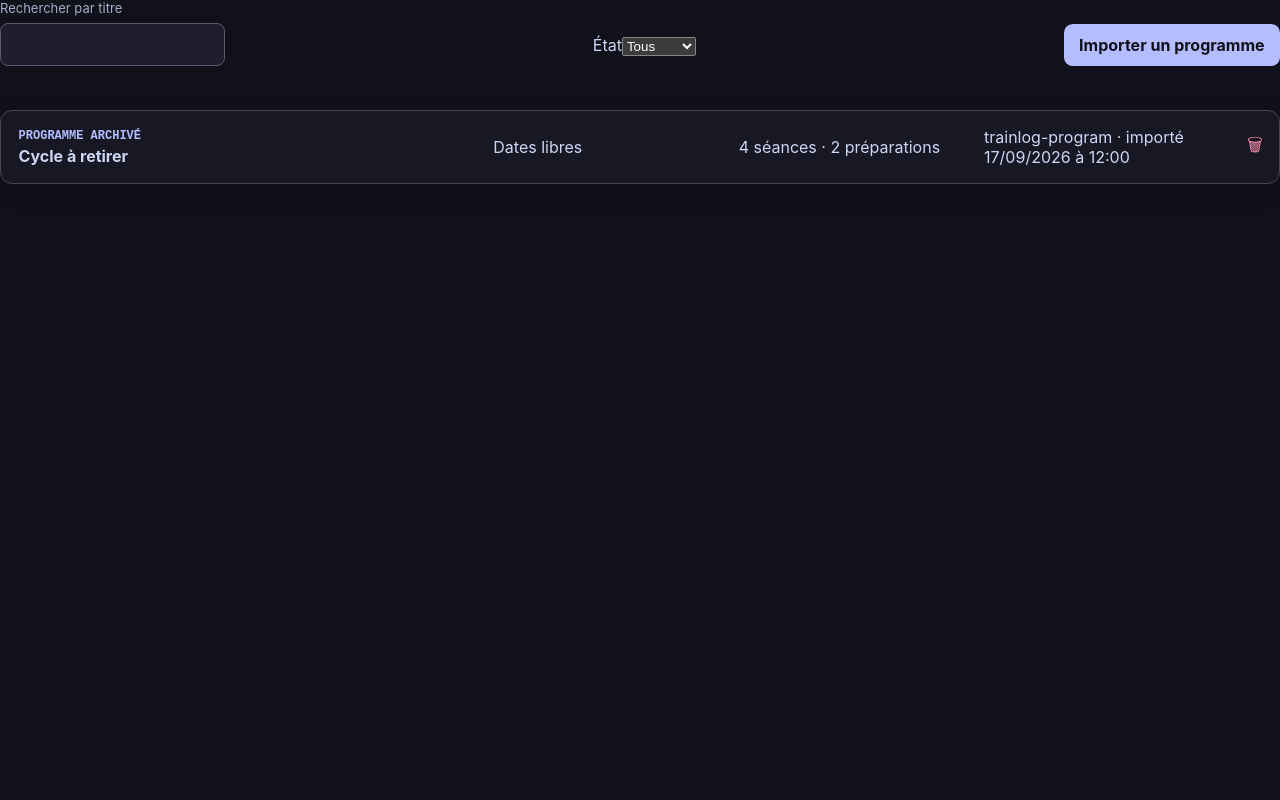
Test case: Programs tab › deletes a program through a separate guarded action and restores focus on cancel
The width and height of the screenshot is (1280, 800).
Click the button named "Supprimer le programme Cycle à retirer" at [1255, 147], box top-left (1231, 111), bottom-right (1279, 183)
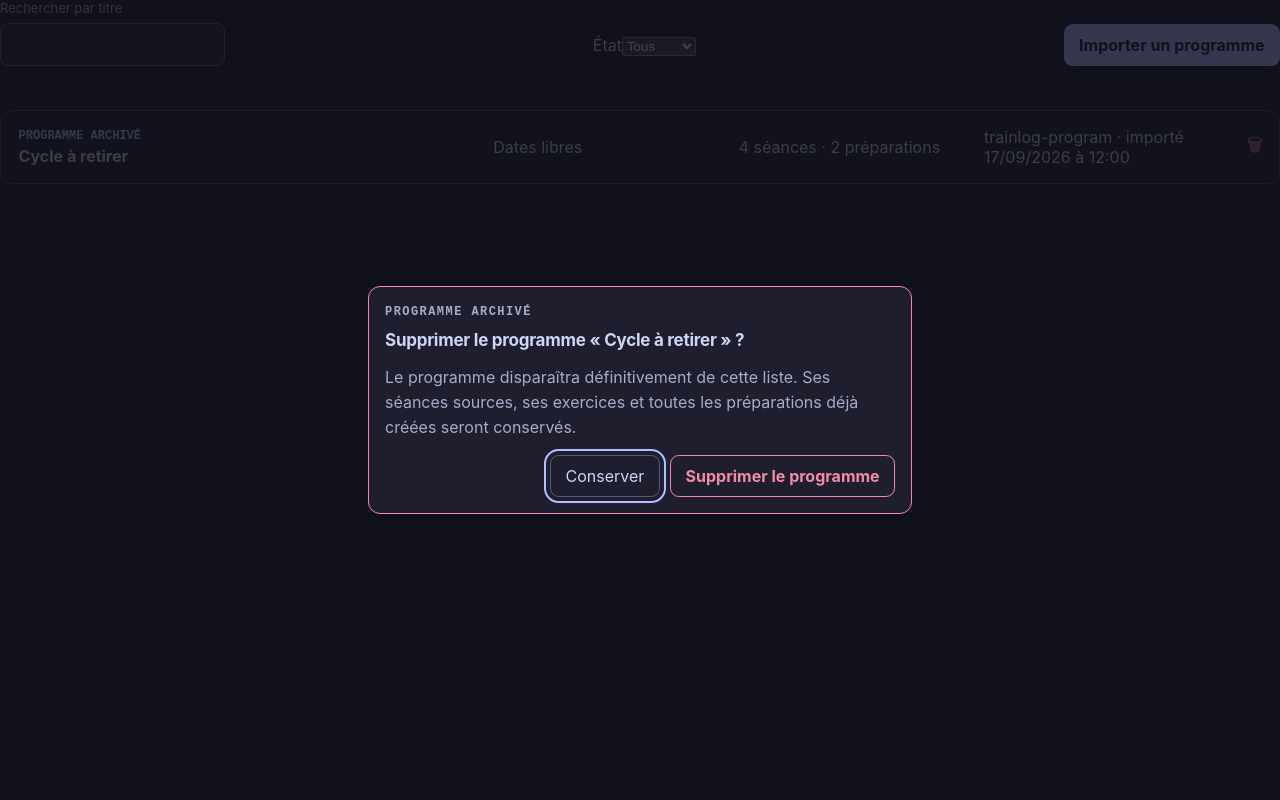
Press Escape in the dialog, box top-left (368, 286), bottom-right (912, 514)
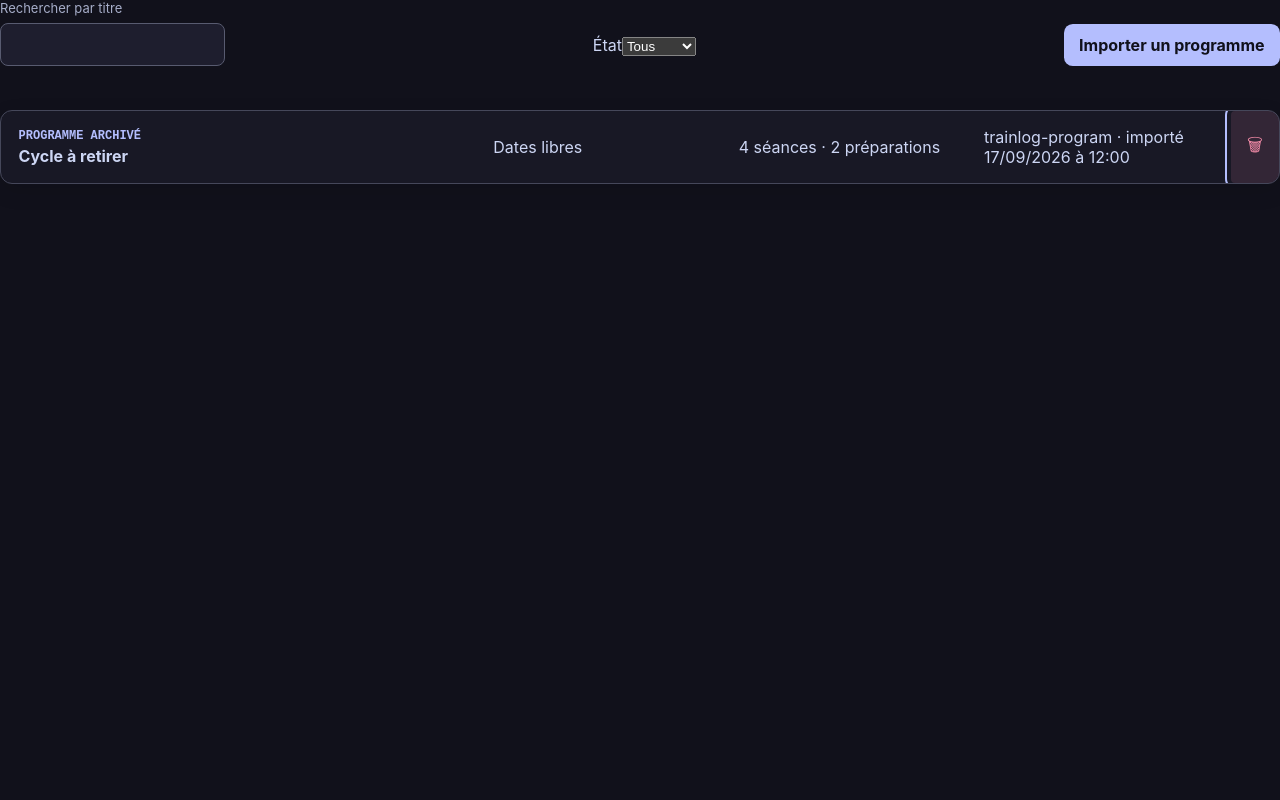
Expected: the dialog is gone
Click the button named "Supprimer le programme Cycle à retirer" at [1255, 147], box top-left (1231, 111), bottom-right (1279, 183)
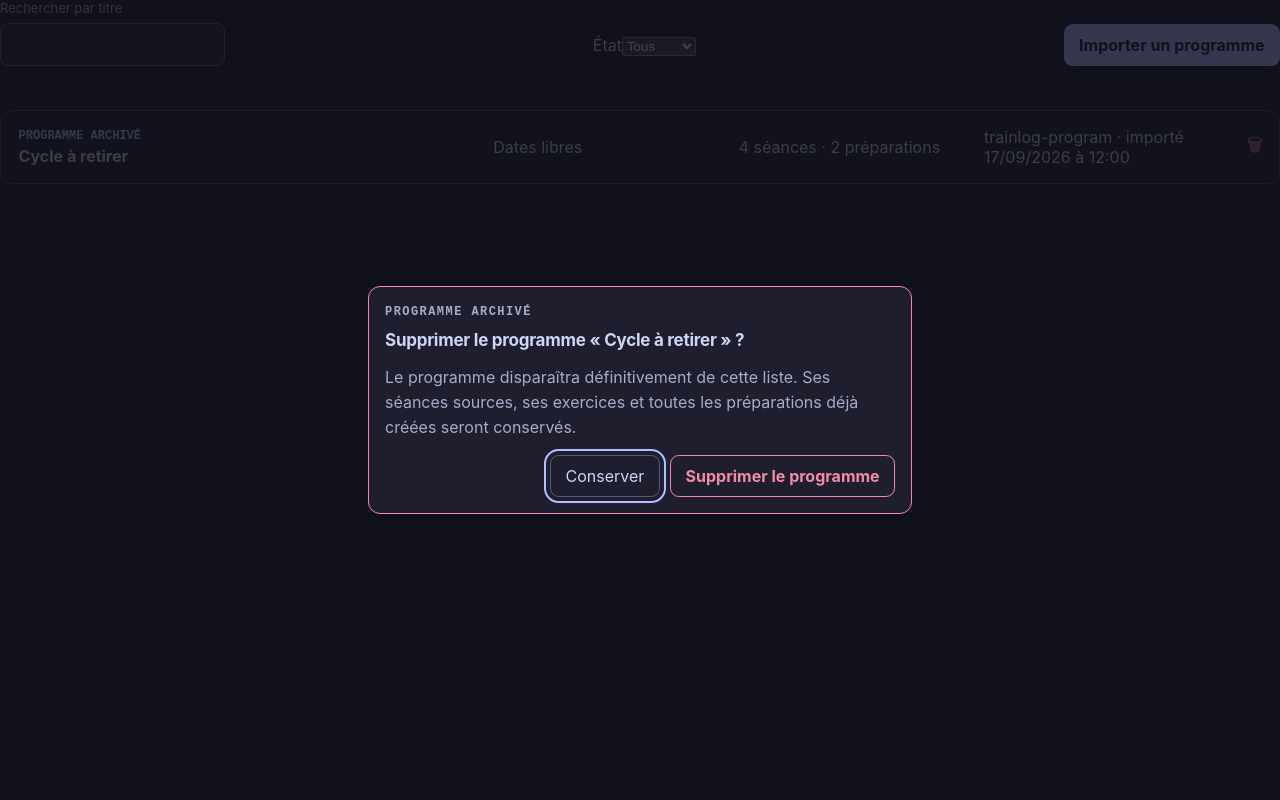
Click the button "Supprimer le programme" at [783, 476], box top-left (670, 455), bottom-right (895, 497)
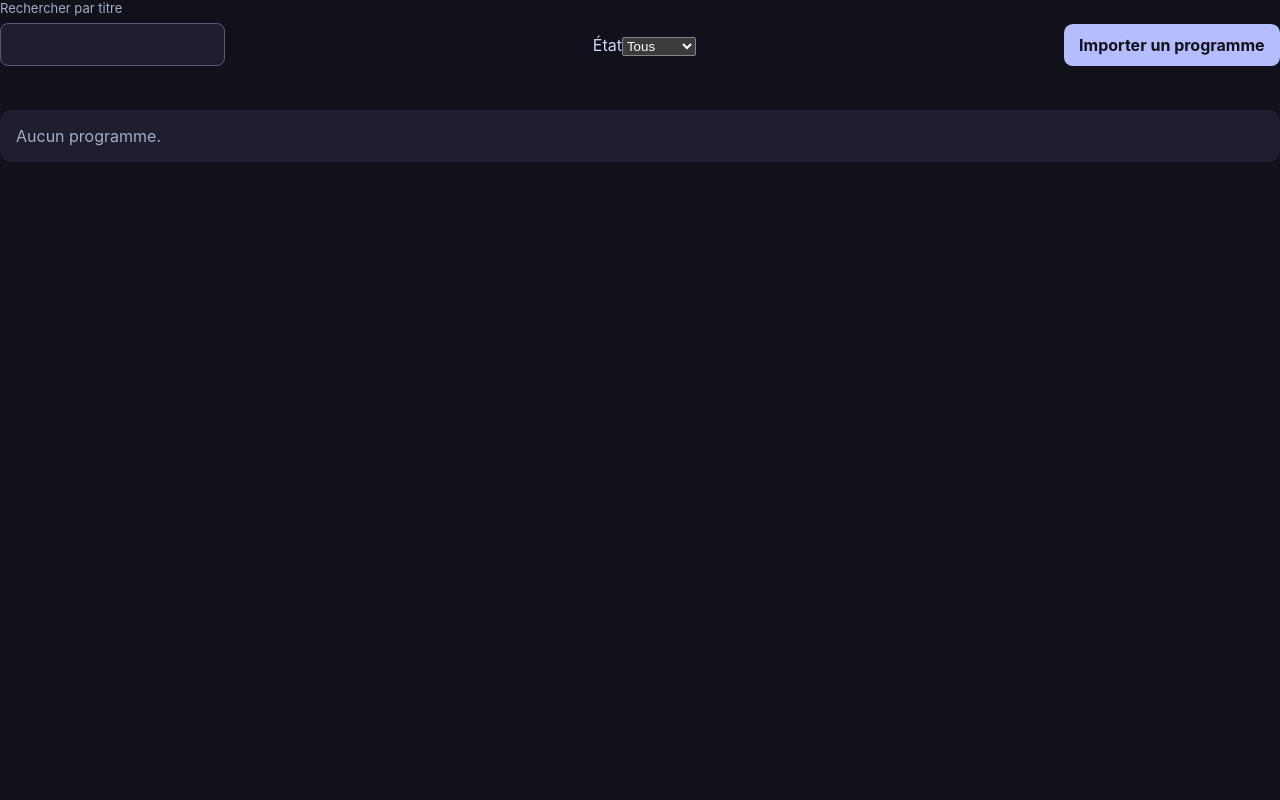
Expected: the button "Cycle à retirer" is gone
